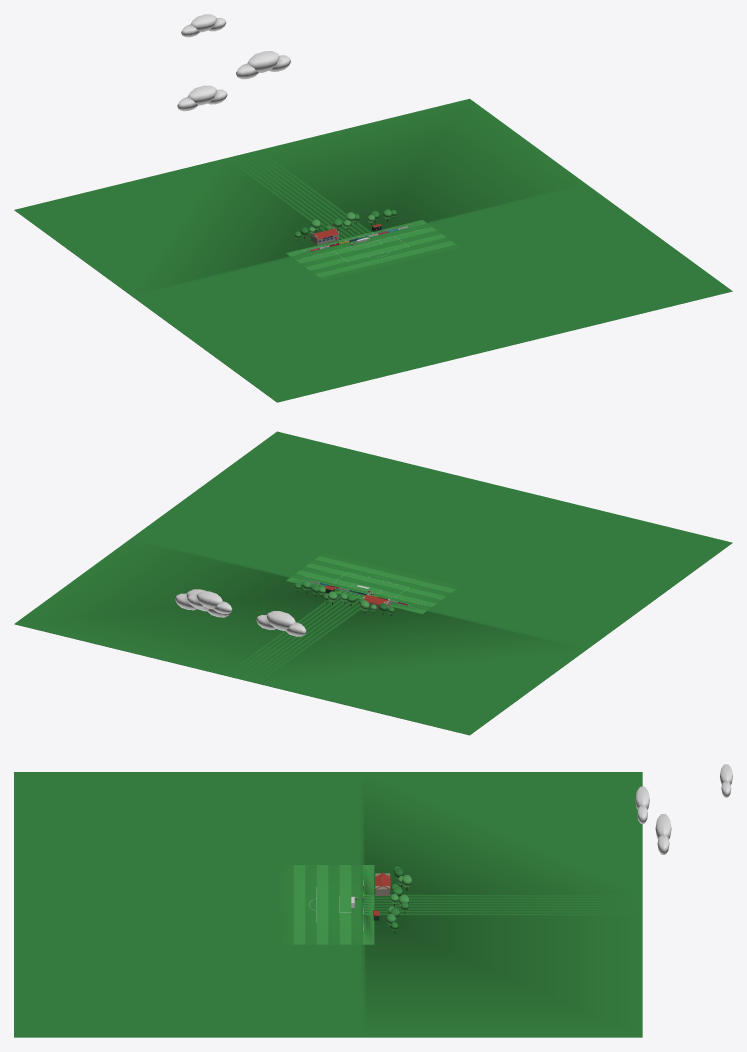
Rendered from arena-CxN2rq1G.glb.
3 views of the same model, one above another, from view 1: azimuth 30°, elevation 25°; view 2: azimuth 150°, elevation 25°; view 3: azimuth 270°, elevation 25° (orthographic). The views are drawn at different scales.
Visible parts, largest first — view 1: arena; view 2: arena; view 3: arena.
Boxes of the visible parts, bbox=[...] form: arena: bbox=[14, 14, 732, 402]; arena: bbox=[14, 431, 732, 735]; arena: bbox=[14, 764, 732, 1037].
Size of the model in its own units: 300 by 72.2 by 343.
